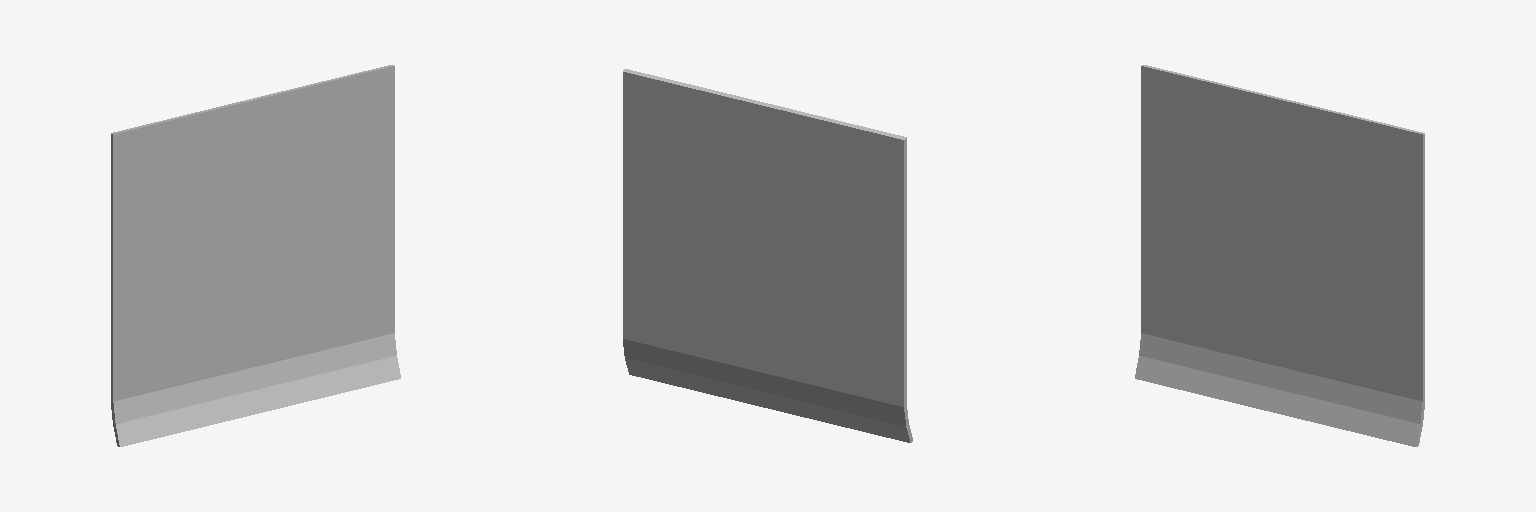
File: Poster2.obj
3 renders of one model, left to right at view 1: azimuth 30°, elevation 25°; view 2: azimuth 150°, elevation 25°; view 3: azimuth 330°, elevation 25°, orthographic.
Parts seen in each view (by area): view 1: Plane.001; view 2: Plane.001; view 3: Plane.001.
Part boxes in pixels (bbox=[...]): Plane.001: bbox=[111, 65, 400, 446]; Plane.001: bbox=[623, 69, 912, 442]; Plane.001: bbox=[1135, 65, 1424, 446].
Bounding box in the file's own units: 2.83 × 2.97 × 0.1652.